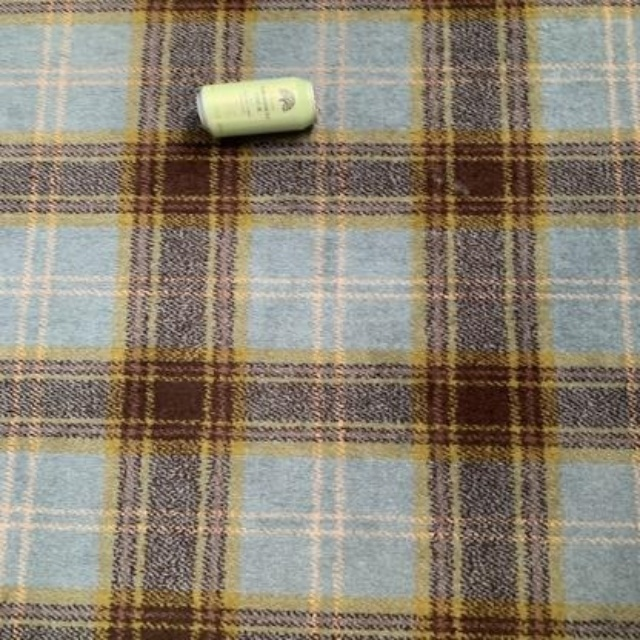trash: (197, 77, 315, 135)
